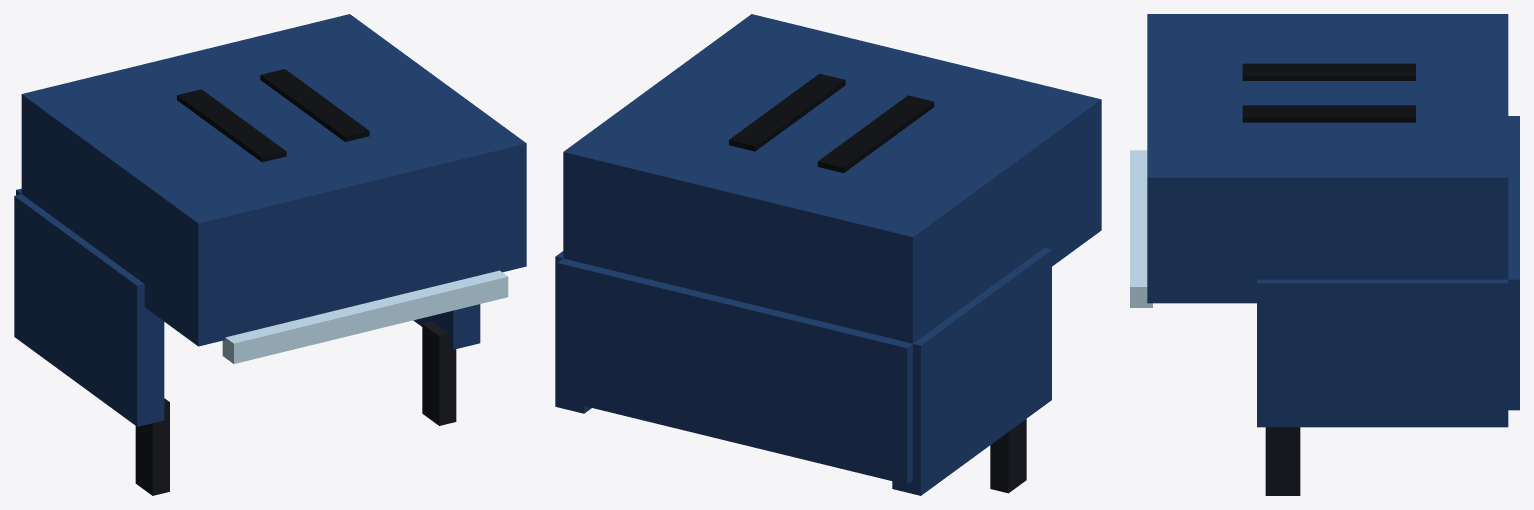
File: helmet_yetis.glb
3 views of the same model, side by side, from view 1: azimuth 30°, elevation 25°; view 2: azimuth 150°, elevation 25°; view 3: azimuth 270°, elevation 25° (orthographic). The views are drawn at different scales.
Parts seen in each view (by area): view 1: ice_helmet_body; view 2: ice_helmet_body; view 3: ice_helmet_body.
Boxes of the visible parts, x1=… form: ice_helmet_body: x1=14, y1=14, x2=526, y2=495; ice_helmet_body: x1=555, y1=14, x2=1101, y2=495; ice_helmet_body: x1=1130, y1=14, x2=1519, y2=495.
Bounding box in the file's own units: 0.5385 × 0.4846 × 0.5192.
Materials: 1 (1 with a texture image).
